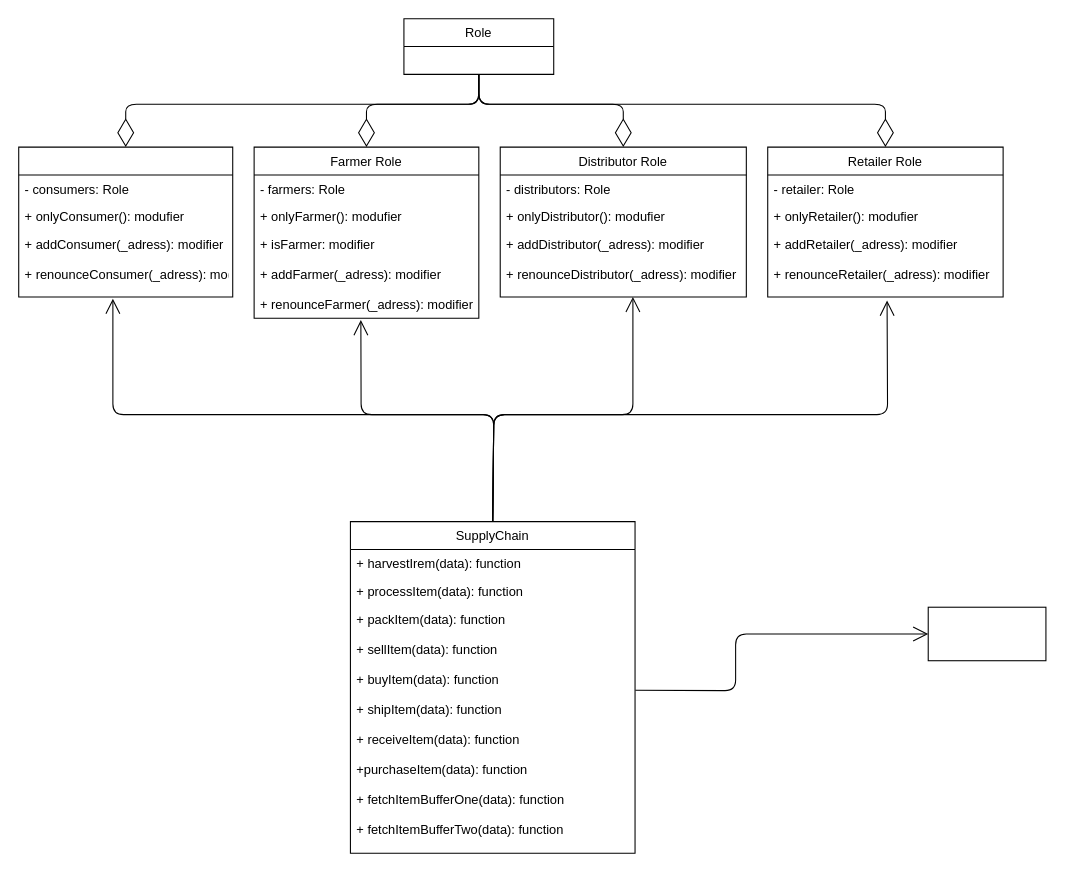
Image size: 1065x875. Some labels were removed from this diagram. Here are the shapes that lost their labels. From the top down, the box of each, then its label:
(18, 146, 233, 297): Consumer Role
(927, 606, 1046, 661): Ownable
